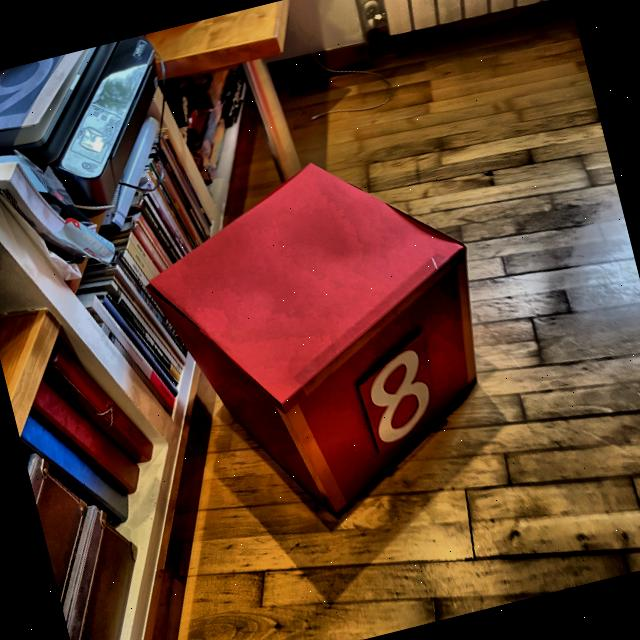eight: (356, 342, 441, 448)
red box: (131, 130, 519, 549)
